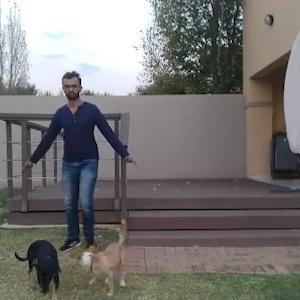land: (30, 75, 136, 258)
